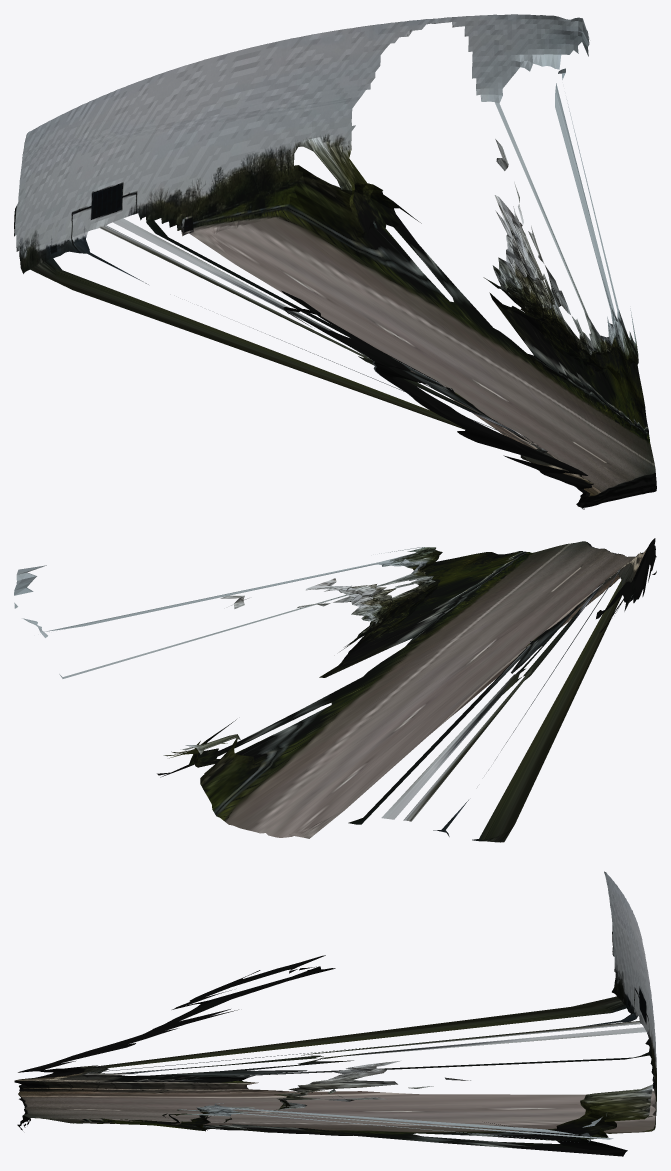
The picture shows the model from 3 angles, top to bottom: view 1: azimuth 30°, elevation 25°; view 2: azimuth 150°, elevation 25°; view 3: azimuth 270°, elevation 25°; orthographic projection. The views are drawn at different scales.
Visible parts, largest first — view 1: defaultobject; view 2: defaultobject; view 3: defaultobject.
Part boxes in pixels (x1,y1,x2,y2): defaultobject: (14,14,656,509); defaultobject: (14,538,656,842); defaultobject: (14,871,656,1156).
Bounding box in the file's own units: 36.97 × 11.89 × 44.66.
Materials: 1 (1 with a texture image).
